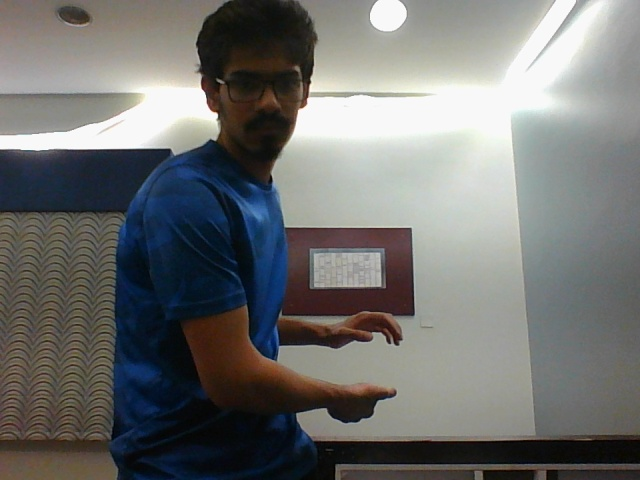charge: (319, 310, 406, 427)
